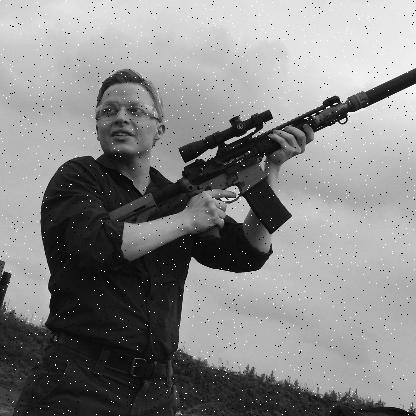gun: (105, 64, 415, 264)
